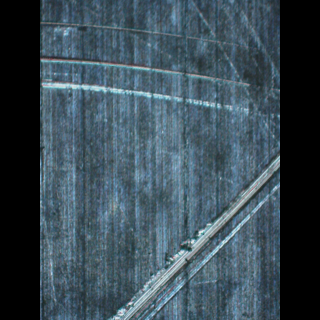d: (107, 142, 280, 320), (40, 14, 269, 126)
